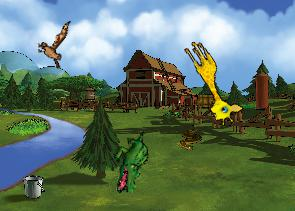crocodile: (110, 131, 152, 194)
eagle: (35, 21, 74, 70)
giraffe: (173, 37, 246, 129)
